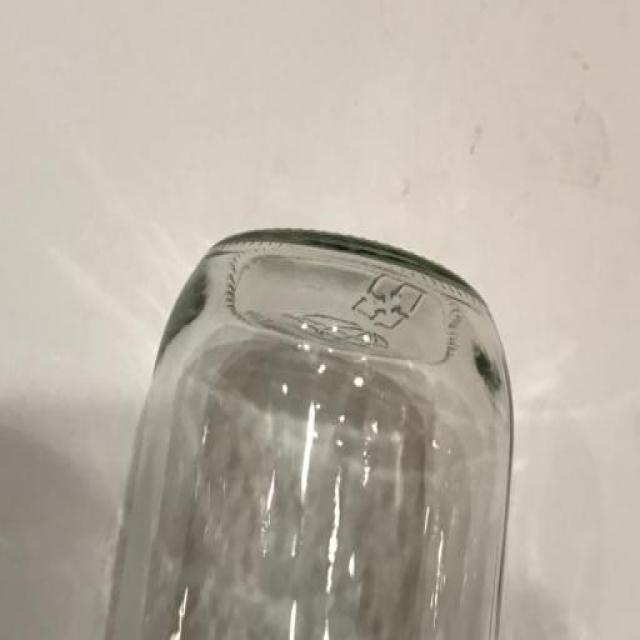glass: (97, 225, 515, 640)
